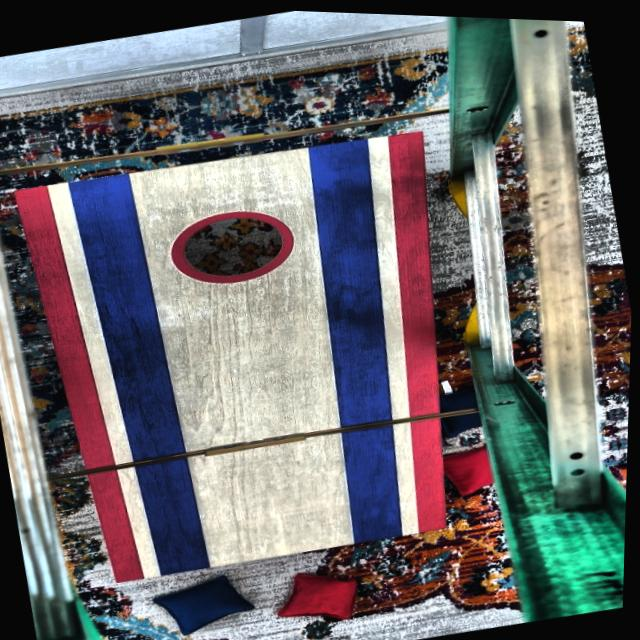blue-bean-bag: (151, 564, 264, 640), (437, 379, 486, 436)
board: (45, 125, 458, 586)
hole: (164, 195, 304, 294)
red-bean-bag: (272, 556, 369, 630), (444, 438, 498, 495)
